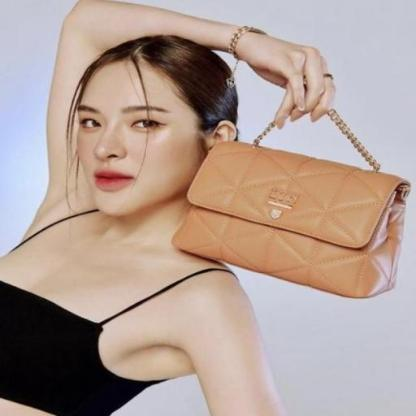bag: (171, 85, 416, 304)
person: (0, 0, 307, 416)
